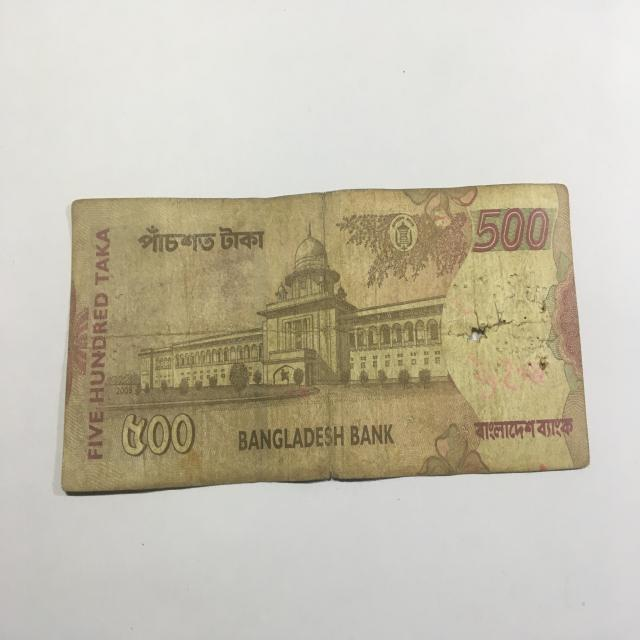Taka: (58, 180, 592, 487)
